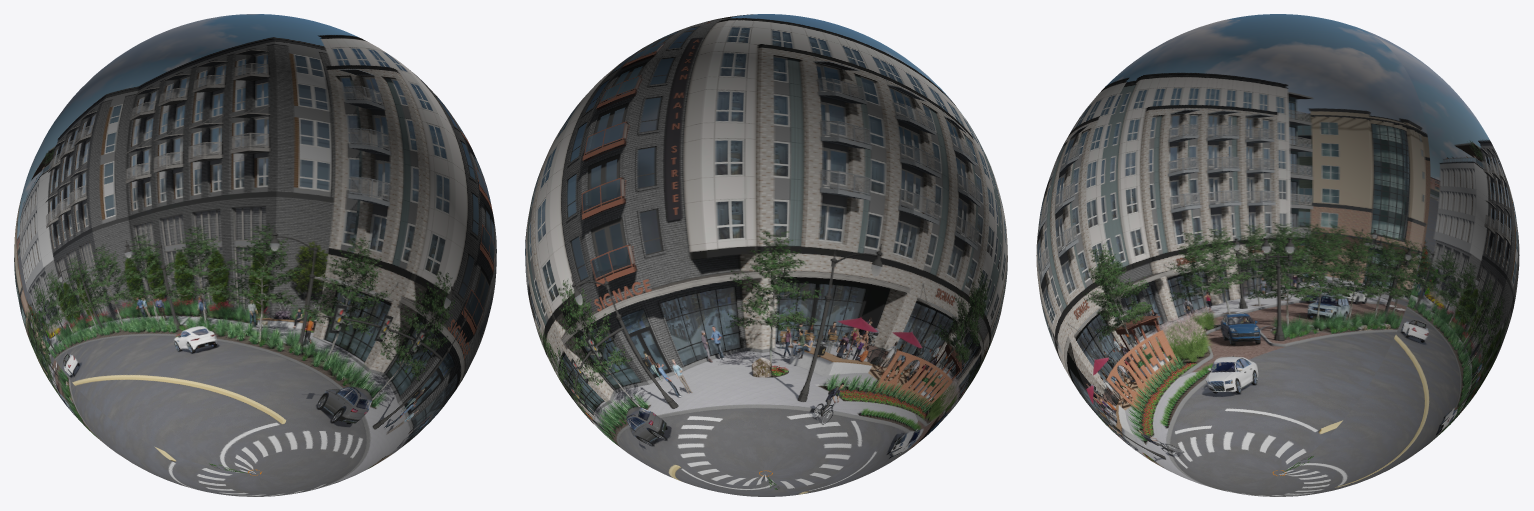
File: AR-Building Portal_1b.glb
The picture shows the model from 3 angles, left to right: view 1: azimuth 30°, elevation 25°; view 2: azimuth 150°, elevation 25°; view 3: azimuth 270°, elevation 25°; orthographic projection.
Parts seen in each view (by area): view 1: Object_7; view 2: Object_7; view 3: Object_7.
Part boxes in pixels (box(x1,y1,x2,y2)): Object_7: box(14, 14, 496, 496); Object_7: box(525, 14, 1007, 496); Object_7: box(1036, 14, 1519, 496).
Size of the model in its own units: 3.4 by 3.4 by 3.4.
2 materials, 1 textured.
